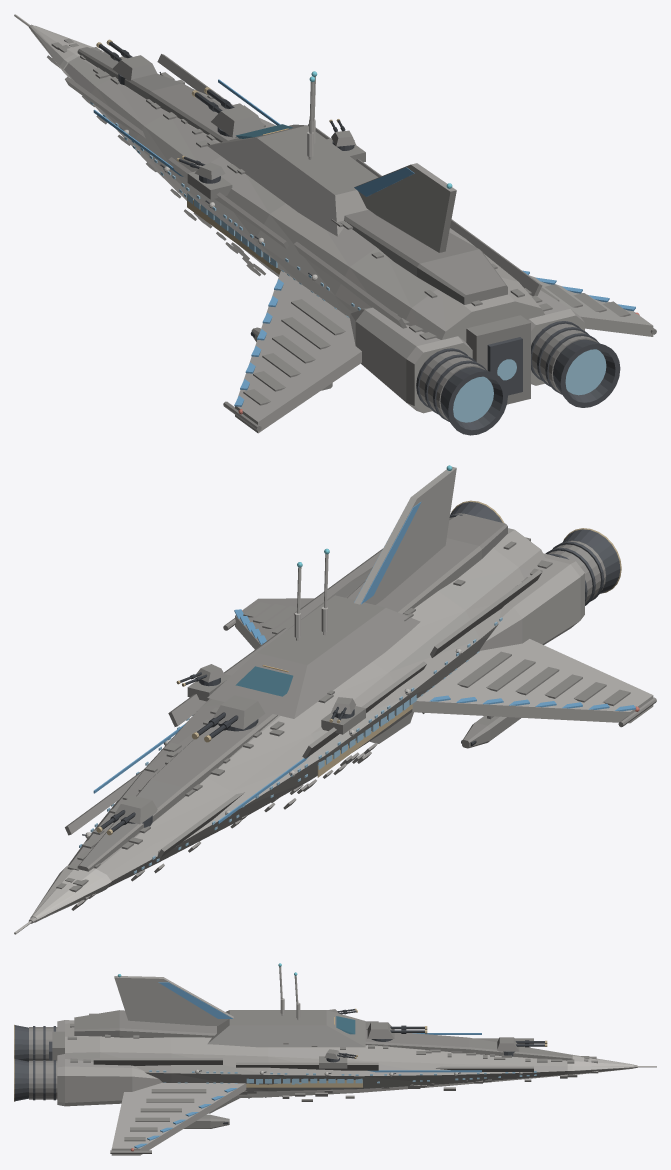
The model's file is antari-spearhead.glb.
3 views of the same model, one above another, from view 1: azimuth 30°, elevation 25°; view 2: azimuth 150°, elevation 25°; view 3: azimuth 270°, elevation 25° (orthographic). The views are drawn at different scales.
Visible parts, largest first — view 1: main_hull_000, hull_plate_000, wing_000, upper_deck_000, command_block_000, drive_pod_000, dorsal_fin_000, engine_bell_000, engine_glow_000, engine_housing_000, turret_housing_000, drive_mount_000 (+9 smaller); view 2: main_hull_000, hull_plate_000, wing_000, command_block_000, upper_deck_000, drive_pod_000, dorsal_fin_000, turret_housing_000, prow_plate_000, accent_stripe_000, engine_bell_000, window_000 (+8 smaller); view 3: main_hull_000, hull_plate_000, command_block_000, upper_deck_000, wing_000, drive_pod_000, dorsal_fin_000, engine_housing_000, engine_bell_000, window_000, turret_housing_000, prow_plate_000 (+8 smaller).
Part boxes in pixels (x1,y1,x2,y2): main_hull_000: (28,24,544,342); hull_plate_000: (47,38,630,405); wing_000: (235,270,653,433); upper_deck_000: (77,47,507,304); command_block_000: (207,124,378,236); drive_pod_000: (350,290,584,413); dorsal_fin_000: (354,163,456,252); engine_bell_000: (440,339,620,435); engine_glow_000: (453,349,606,422); engine_housing_000: (418,323,597,419); turret_housing_000: (112,55,355,179); drive_mount_000: (466,315,530,404); main_hull_000: (28,528,544,923); hull_plate_000: (56,515,630,910); wing_000: (235,598,653,723); command_block_000: (207,595,420,718); upper_deck_000: (77,514,507,871); drive_pod_000: (479,553,584,651); dorsal_fin_000: (354,466,456,604); turret_housing_000: (114,664,355,824); prow_plate_000: (30,865,111,922); accent_stripe_000: (93,609,635,823); engine_bell_000: (450,502,620,593); window_000: (79,617,502,873); main_hull_000: (65,1022,637,1098); hull_plate_000: (67,1013,598,1141); command_block_000: (207,1010,365,1047); upper_deck_000: (74,1010,572,1060); wing_000: (111,1083,246,1155); drive_pod_000: (57,1020,162,1106); dorsal_fin_000: (114,976,233,1025); engine_housing_000: (29,1027,57,1099); engine_bell_000: (14,1025,28,1101); window_000: (149,1070,536,1084); turret_housing_000: (324,1009,519,1059); prow_plate_000: (567,1055,633,1074).
Size of the model in its own units: 2.22 by 1.26 by 4.96.
